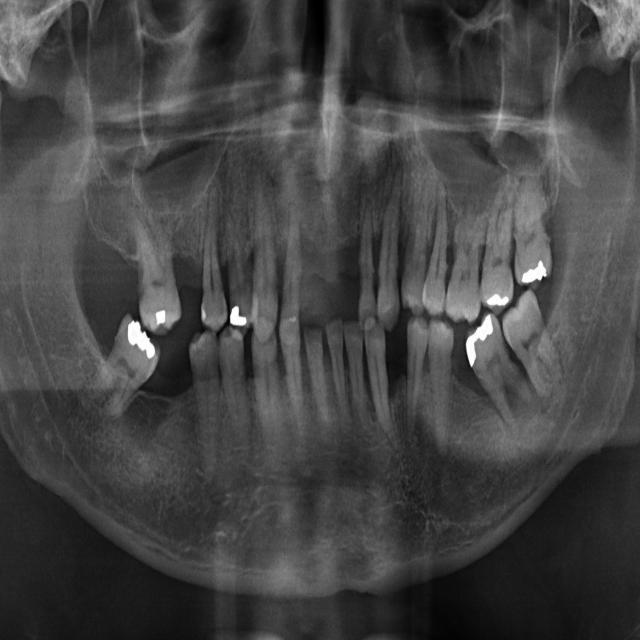AGS Medikal Implant: (507, 390, 507, 391)
Amalgam filling: (123, 190, 185, 340)
Anthogyr Implant: (423, 315, 456, 459)
Bicon Implant: (405, 314, 428, 446)
BioHorizons Implant: (362, 319, 399, 455)
BioLife Implant: (343, 318, 371, 433)
Biomet 3i Implant: (324, 315, 349, 424)
Blue Sky Bio Implant: (302, 320, 331, 426)
Camlog Implant: (278, 332, 307, 438)
Caries: (356, 199, 376, 322)
Composite filling: (248, 331, 286, 475)
Cowellmedi Implant: (217, 324, 253, 478)
Crown: (185, 328, 224, 488)
Dentium Implant: (109, 395, 110, 396)
Euroteknika Implant: (200, 179, 228, 332)
Filling: (217, 190, 254, 337)
Frontier Implant: (250, 157, 280, 331)
Hiossen Implant: (375, 158, 405, 334)
Implant Direct: (279, 193, 308, 332)
MIS Implant: (399, 168, 432, 313)
Mandible: (426, 174, 451, 317)
Maxilla: (443, 195, 492, 327)
Megagen Implant: (477, 170, 524, 316)
Neodent Implant: (513, 176, 554, 292)
Neoss Implant: (490, 285, 575, 405)
